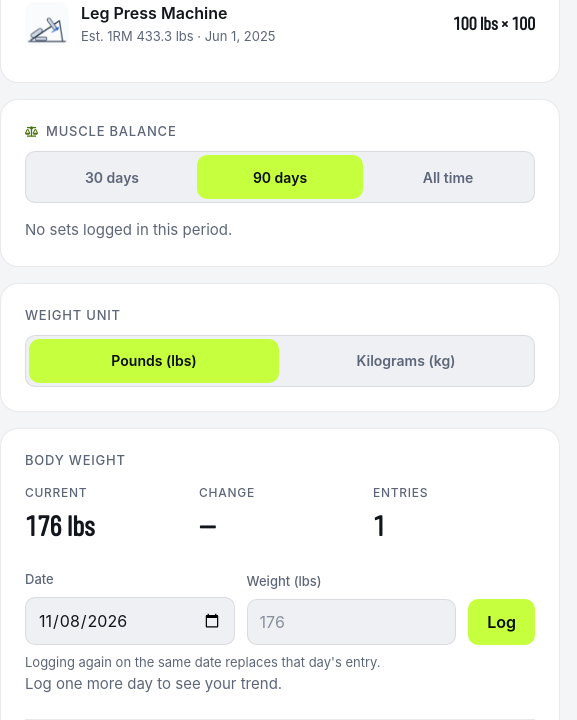
it: profile › switching to kilograms updates the stats and is remembered
(page scrolled)
Click the radio button labelled "Kilograms (kg)" at x=406, y=361, box left=281, top=339, right=531, bottom=383
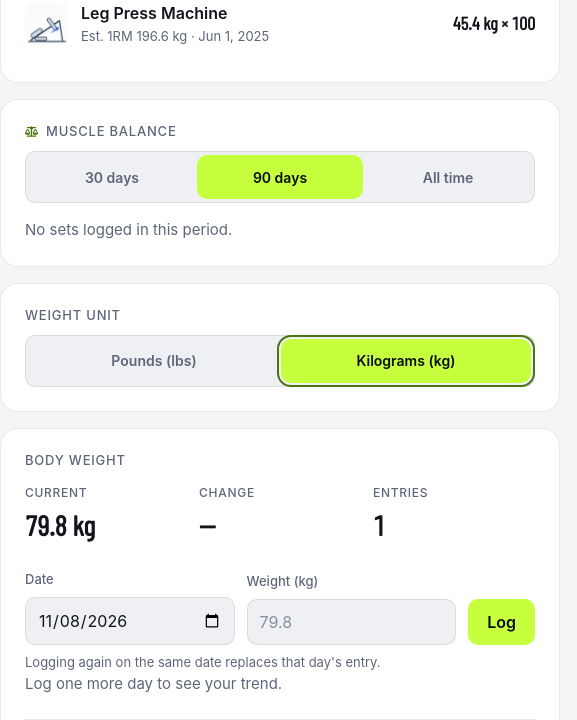
Expected: the radio button labelled "Kilograms (kg)" is checked, left=281, top=339, right=531, bottom=383
Expected: the text "79.8 kg" is shown, left=25, top=508, right=95, bottom=542
